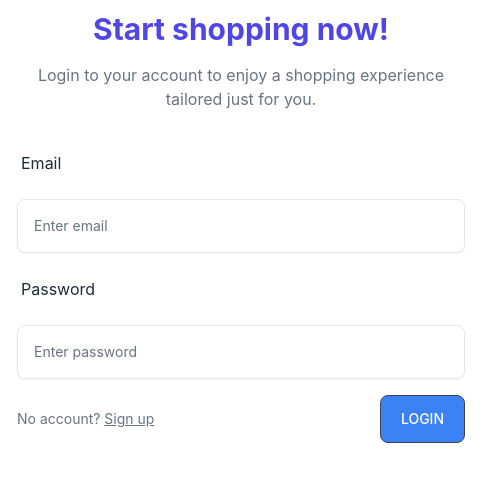
Test case: Login › password field should show an error if › clicked and empty
Click the password field labelled "Password".
click(241, 352)  # box [17,325,465,379]
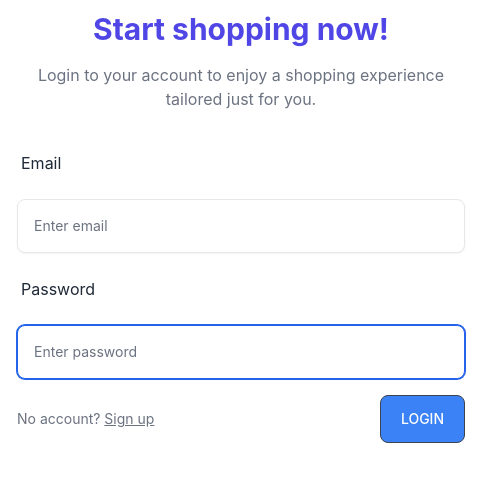
Click the field labelled "Email".
click(241, 226)  # box [17,199,465,253]
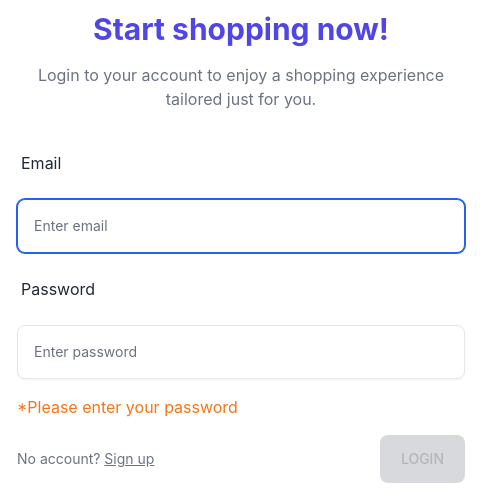
Check: the text "*Please enter your password" is shown, box [17,397,238,417]
